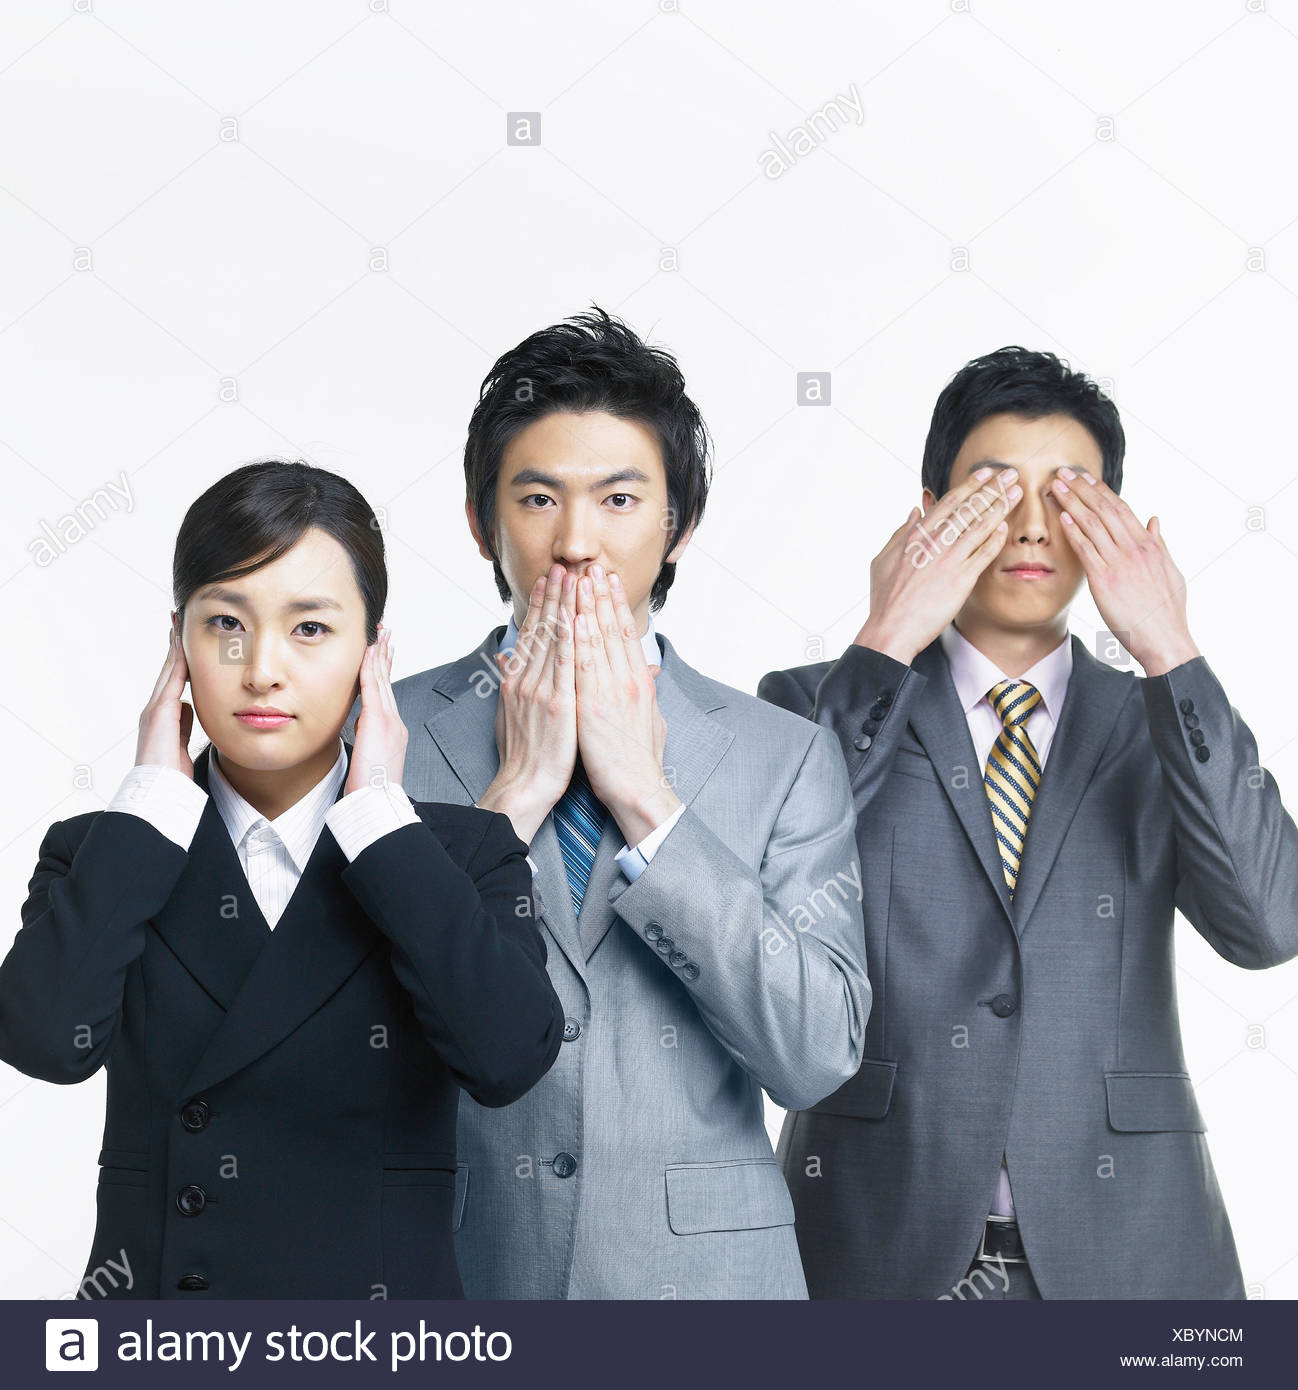person: (784, 236, 1272, 1009), (418, 309, 865, 1099), (100, 446, 486, 1132)
